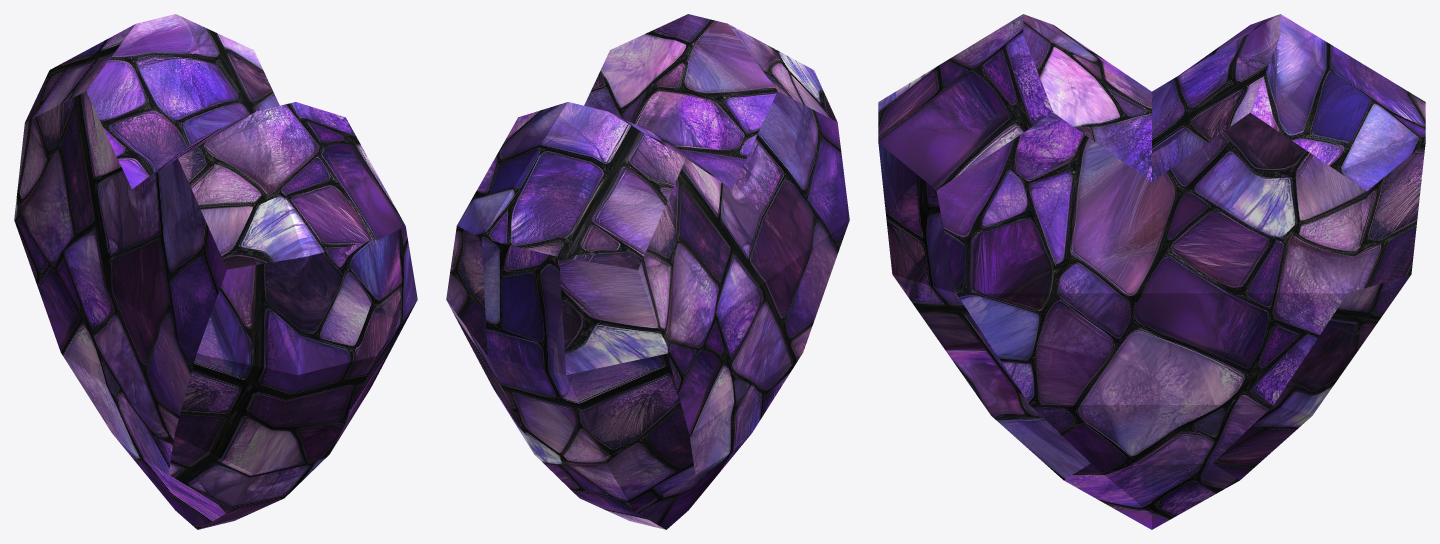
Rendered from gemstone1Purple.glb.
3 renders of one model, left to right at view 1: azimuth 30°, elevation 25°; view 2: azimuth 150°, elevation 25°; view 3: azimuth 270°, elevation 25°, orthographic. The views are drawn at different scales.
Visible parts, largest first — view 1: geamstoneHeart; view 2: geamstoneHeart; view 3: geamstoneHeart.
Part boxes in pixels (<box>): geamstoneHeart: <box>14,14,417,529</box>; geamstoneHeart: <box>446,14,849,529</box>; geamstoneHeart: <box>878,14,1425,529</box>.
Bounding box in the file's own units: 0.5 × 1 × 1.
Materials: 1 (1 with a texture image).
